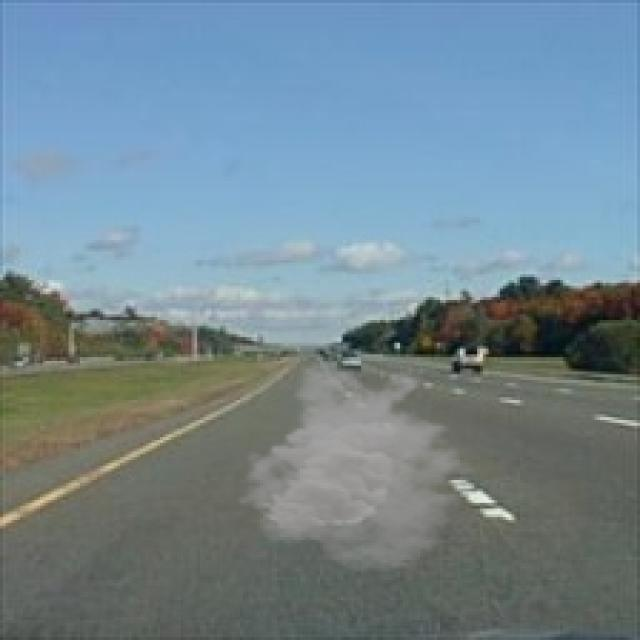smoke: (234, 360, 486, 574)
